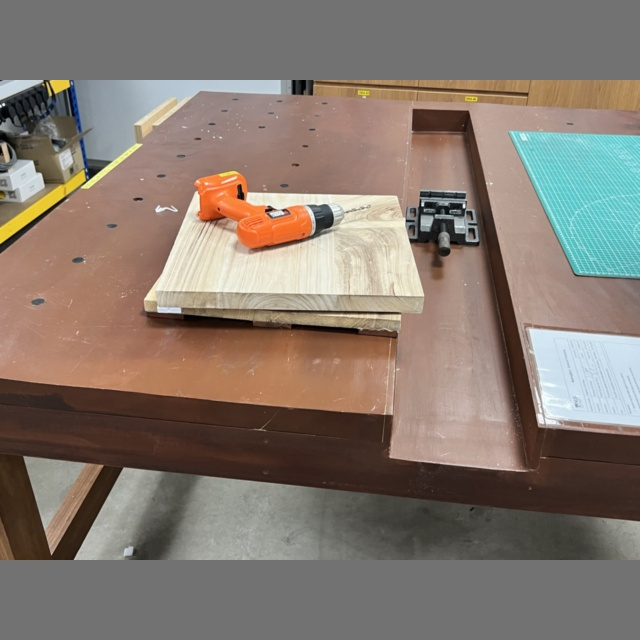drill: (195, 171, 344, 248)
